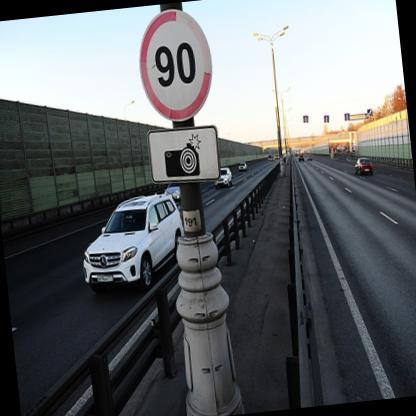road_sign: (139, 10, 213, 122), (146, 124, 222, 182)
